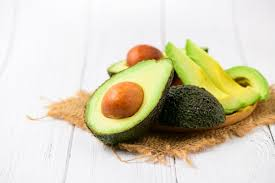avocado: (85, 59, 173, 142)
